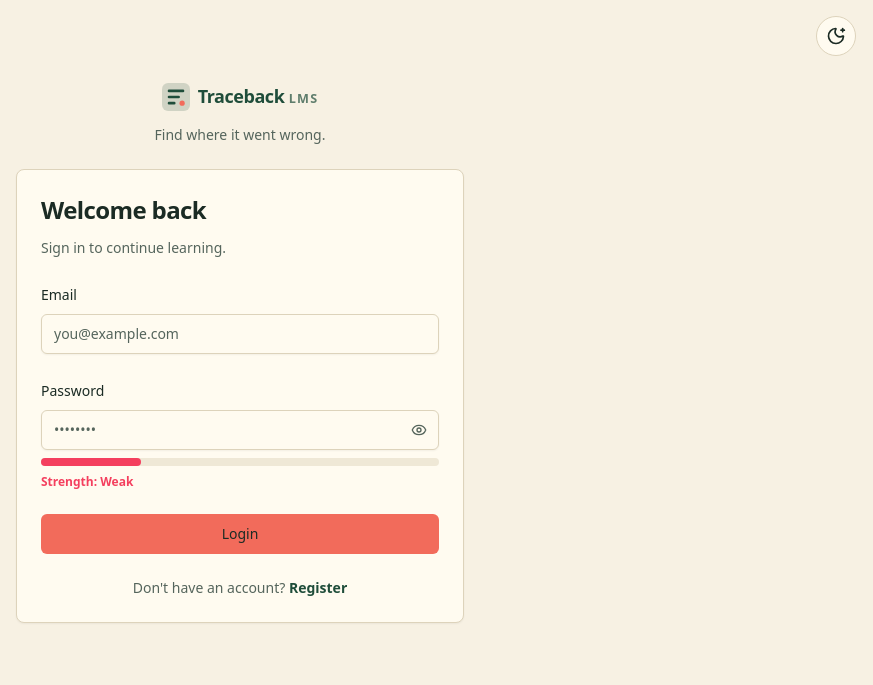
Test: Login page › shows the server message when credentials are wrong
Step 1. Type "sam@lms.dev" into the field labelled "Email" → (240, 334), box [41,314,439,354]
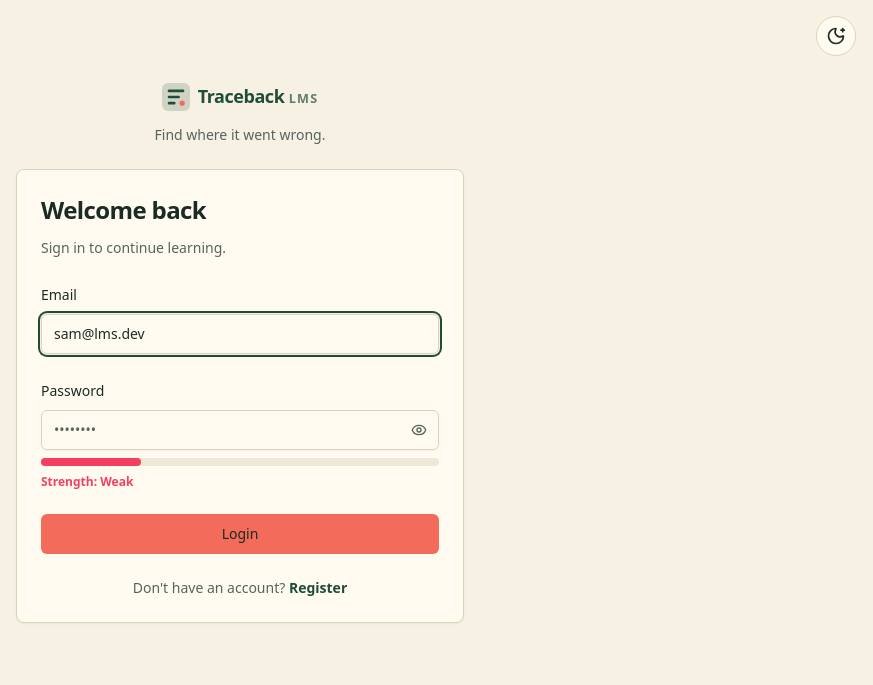
Step 2. Type "wrong-password" into the password field labelled "Password" → (240, 430), box [41,410,439,450]
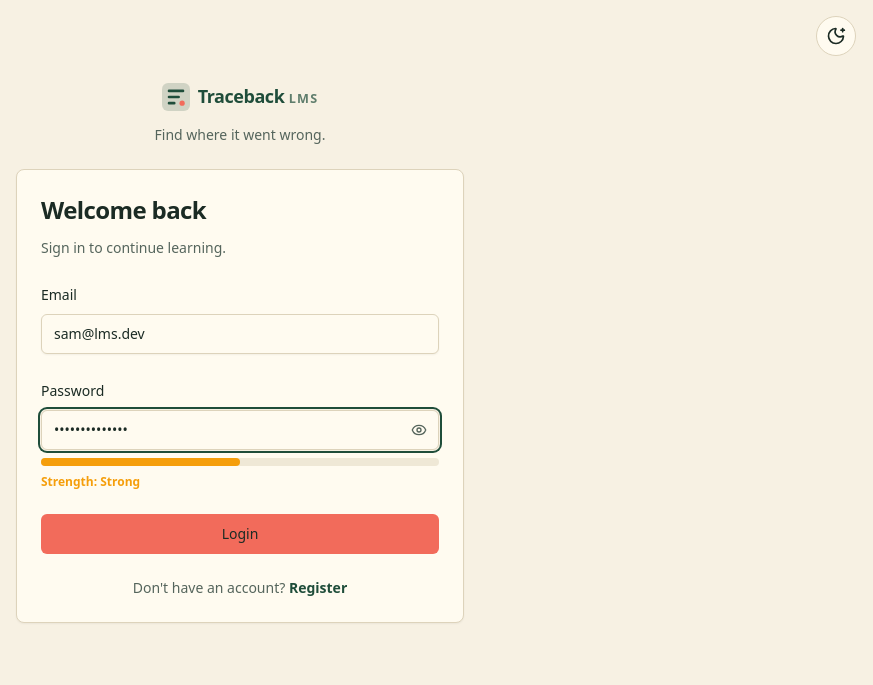
Step 3. Click the button "Login" → (240, 534), box [41,514,439,554]
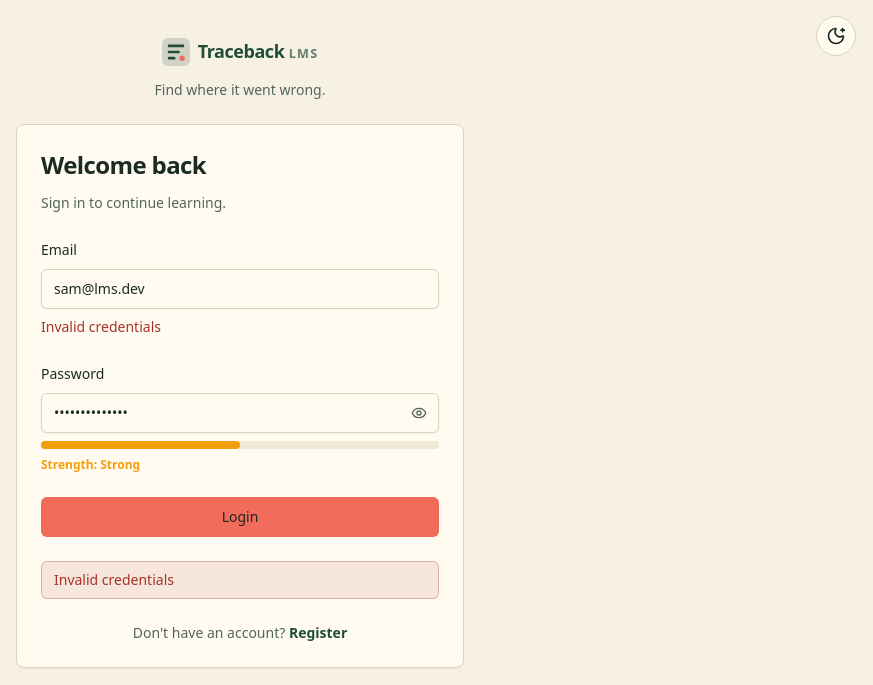
Expected: the text "Invalid credentials" below "Email" is shown, [41,316,161,336]
